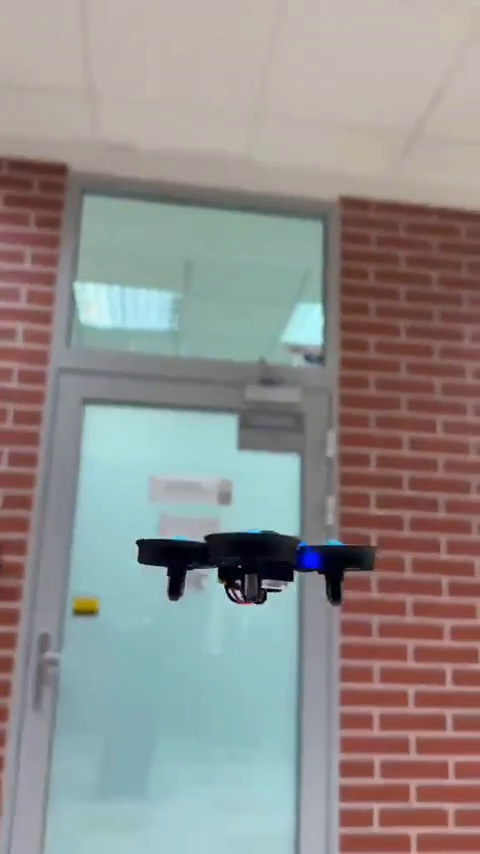drone: (137, 529, 384, 610)
